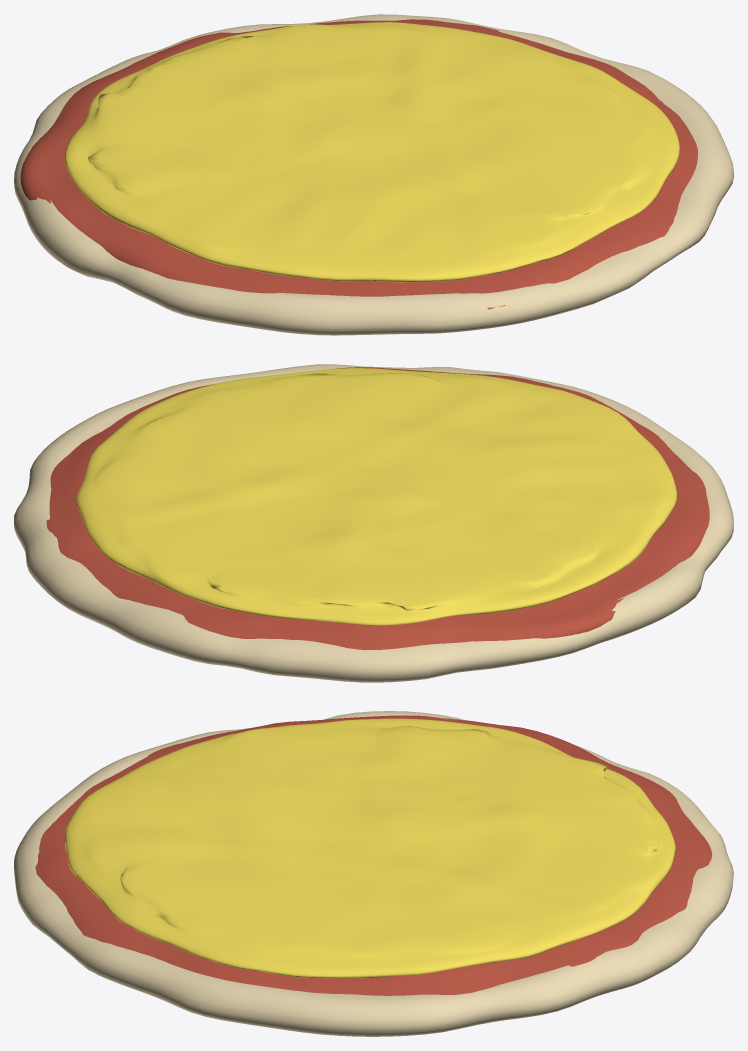
Rendered from pizza v2.fbx.
The picture shows the model from 3 angles, top to bottom: view 1: azimuth 30°, elevation 25°; view 2: azimuth 150°, elevation 25°; view 3: azimuth 270°, elevation 25°; orthographic projection.
Parts seen in each view (by area): view 1: Mesh.006, Mesh.004, Mesh.005; view 2: Mesh.006, Mesh.004, Mesh.005; view 3: Mesh.006, Mesh.004, Mesh.005.
Boxes of the visible parts, x1,y1,x2,y2 form: Mesh.006: (64,22,679,282); Mesh.004: (14,14,733,335); Mesh.005: (20,19,697,309); Mesh.006: (76,368,677,625); Mesh.004: (14,364,733,682); Mesh.005: (46,367,709,649); Mesh.006: (65,718,675,978); Mesh.004: (14,711,733,1036); Mesh.005: (23,715,712,995).
Size of the model in its own units: 182 by 20.15 by 180.
